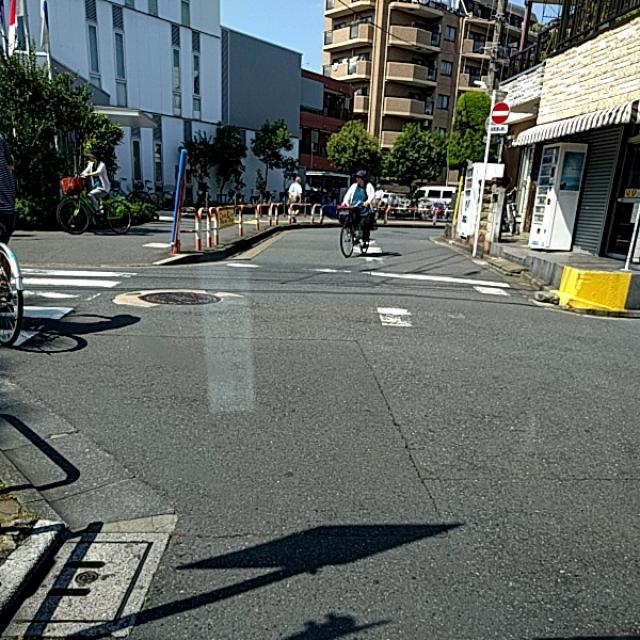pothole: (380, 404, 432, 470)
